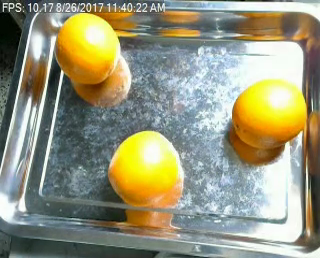Orange: (106, 131, 184, 209), (233, 79, 308, 147), (54, 12, 122, 83)
